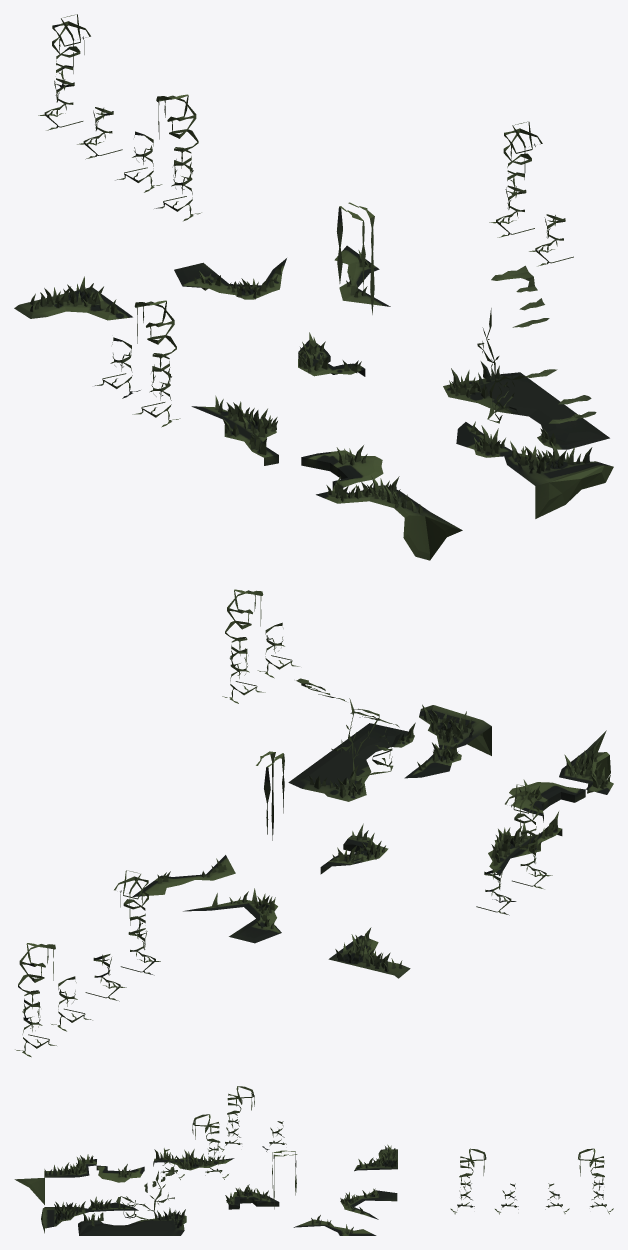
The model's file is Plant_01.FBX.
3 views of the same model, one above another, from view 1: azimuth 30°, elevation 25°; view 2: azimuth 150°, elevation 25°; view 3: azimuth 270°, elevation 25° (orthographic). The views are drawn at different scales.
Parts seen in each view (by area): view 1: Plant_01; view 2: Plant_01; view 3: Plant_01.
Boxes of the visible parts, left/top/right/bottom form: Plant_01: left=14, top=14, right=613, bottom=560; Plant_01: left=15, top=589, right=613, bottom=1057; Plant_01: left=14, top=1086, right=613, bottom=1235.
Bounding box in the file's own units: 15.99 × 11.16 × 39.31.
